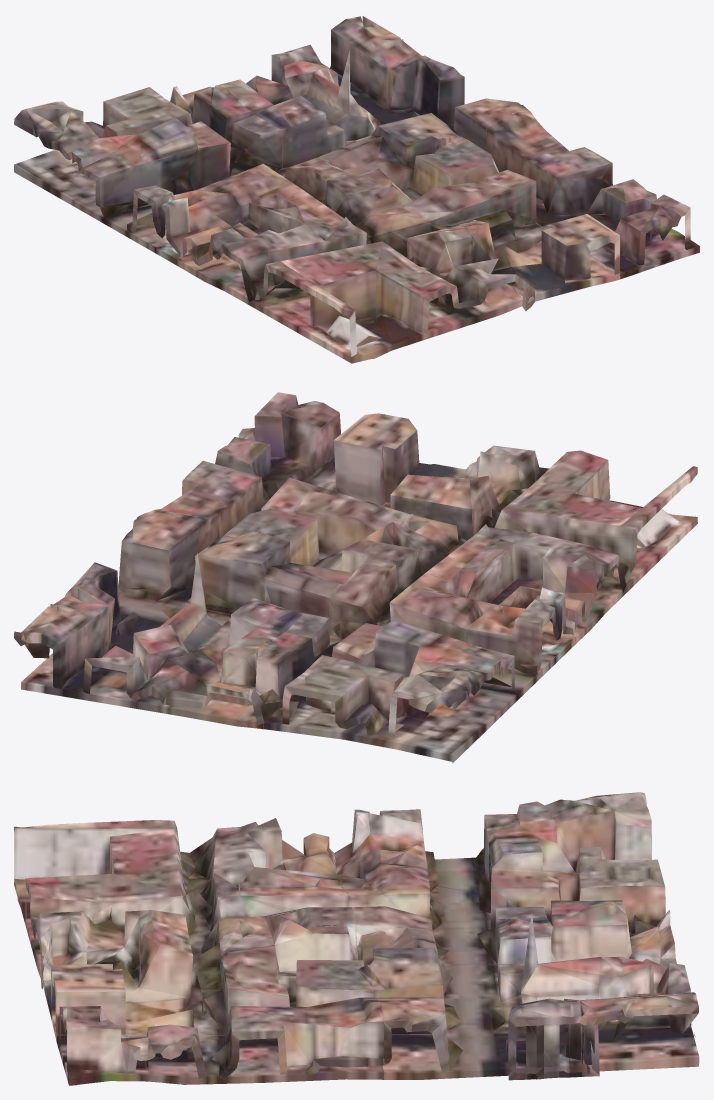
The picture shows the model from 3 angles, top to bottom: view 1: azimuth 30°, elevation 25°; view 2: azimuth 150°, elevation 25°; view 3: azimuth 270°, elevation 25°; orthographic projection. The views are drawn at different scales.
Visible parts, largest first — view 1: Mesh_0; view 2: Mesh_0; view 3: Mesh_0.
Boxes of the visible parts, x1,y1,x2,y2 form: Mesh_0: (14,16,699,363); Mesh_0: (14,392,697,763); Mesh_0: (14,792,699,1085).
Size of the model in its own units: 266 by 60.85 by 330.
1 material, 1 textured.
